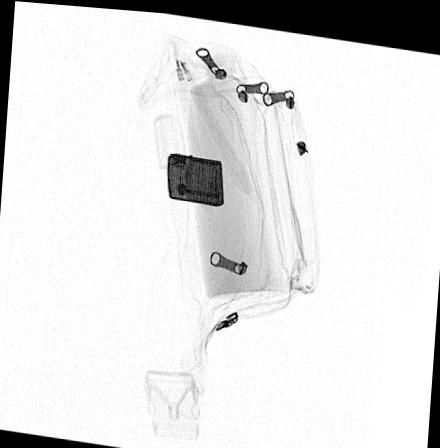Lighter: (166, 149, 223, 203)
